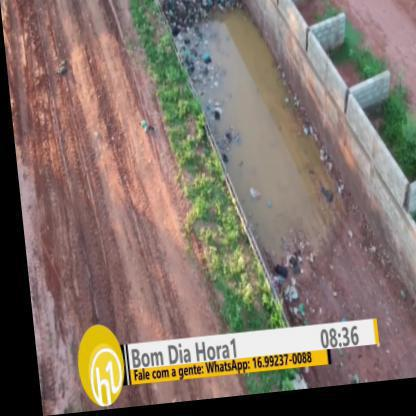agua: (209, 39, 307, 221)
lixo: (160, 0, 240, 19)
